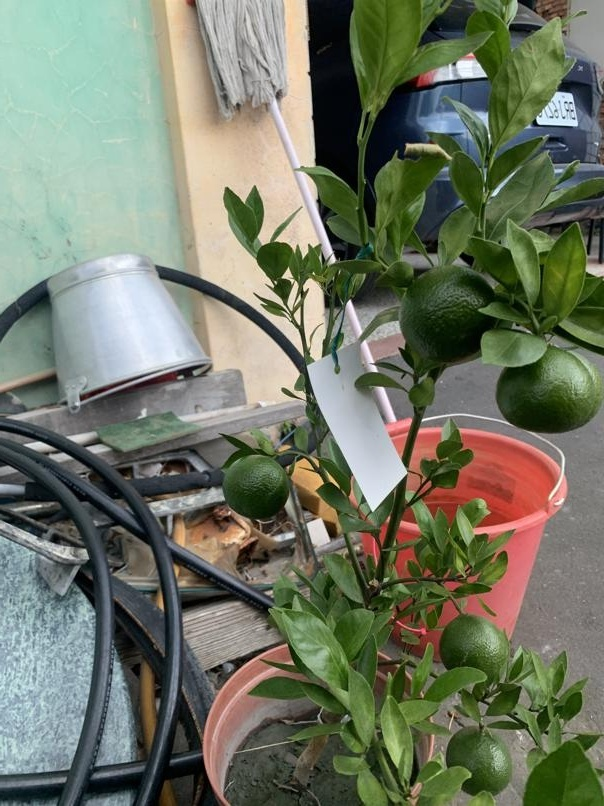Tangerine: (396, 265, 501, 368), (497, 336, 600, 434), (436, 607, 514, 691), (442, 716, 514, 795), (223, 451, 293, 522)
